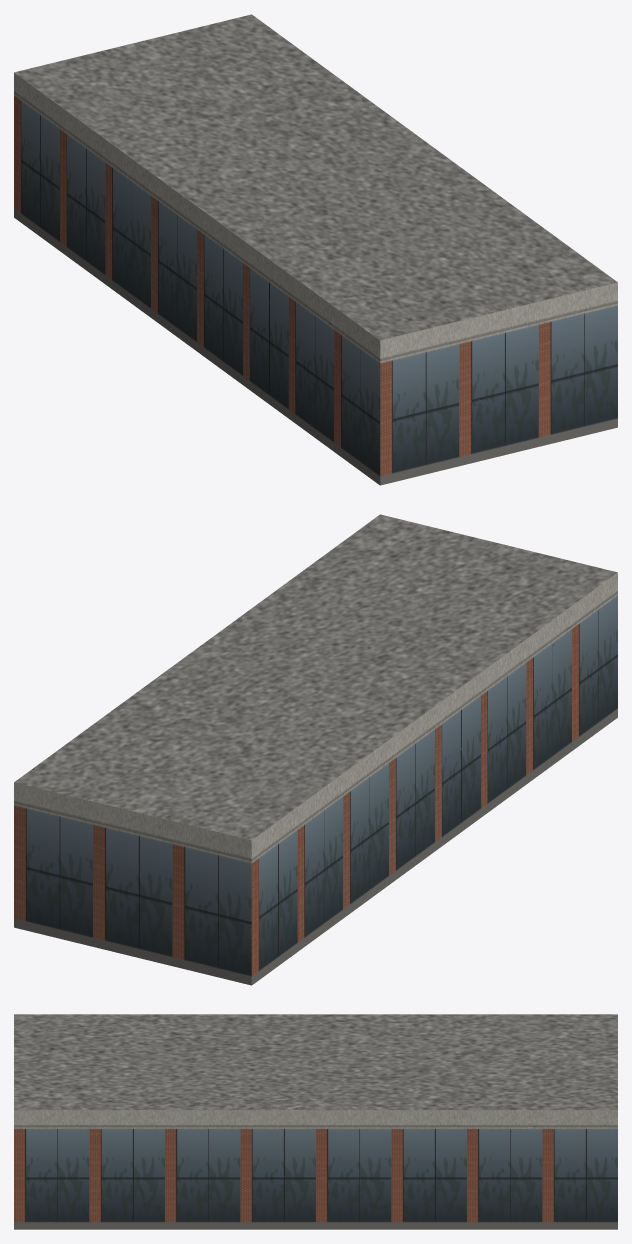
The model's file is SM_Fondale_EdificioVetrate_LOD2.fbx.
3 renders of one model, top to bottom at view 1: azimuth 30°, elevation 25°; view 2: azimuth 150°, elevation 25°; view 3: azimuth 270°, elevation 25°, orthographic. The views are drawn at different scales.
Parts seen in each view (by area): view 1: SM_Fondale_EdificioVetrate_LOD2; view 2: SM_Fondale_EdificioVetrate_LOD2; view 3: SM_Fondale_EdificioVetrate_LOD2.
Boxes of the visible parts, x1=… form: SM_Fondale_EdificioVetrate_LOD2: x1=14, y1=14, x2=617, y2=485; SM_Fondale_EdificioVetrate_LOD2: x1=14, y1=514, x2=617, y2=985; SM_Fondale_EdificioVetrate_LOD2: x1=14, y1=1014, x2=617, y2=1229.
Size of the model in its own units: 1200 by 3200 by 700.
1 material, 1 textured.
